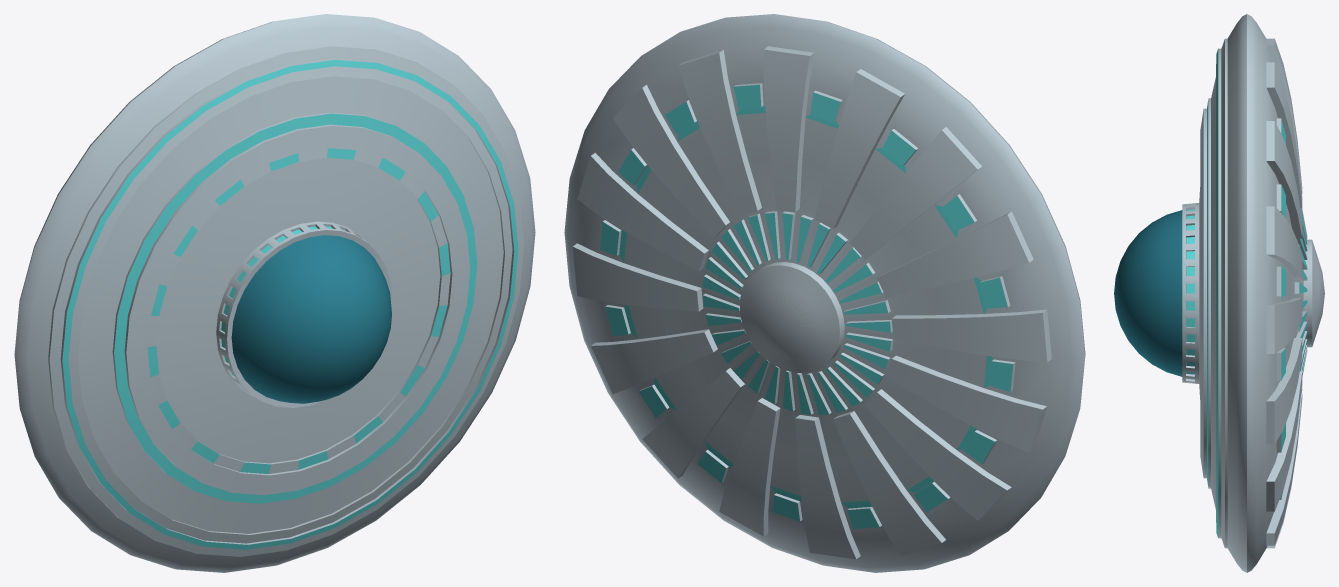
Rendered from UFO.obj.
3 renders of one model, left to right at view 1: azimuth 30°, elevation 25°; view 2: azimuth 150°, elevation 25°; view 3: azimuth 270°, elevation 25°, orthographic. The views are drawn at different scales.
Parts seen in each view (by area): view 1: Sphere_Sphere_Metal, Sphere_Sphere_Light, Sphere_Sphere_Material.001; view 2: Sphere_Sphere_Metal, Sphere_Sphere_Light; view 3: Sphere_Sphere_Metal, Sphere_Sphere_Material.001, Sphere_Sphere_Light.
Boxes of the visible parts, x1=… form: Sphere_Sphere_Metal: x1=14, y1=14, x2=535, y2=572; Sphere_Sphere_Light: x1=62, y1=60, x2=518, y2=549; Sphere_Sphere_Material.001: x1=231, y1=235, x2=391, y2=403; Sphere_Sphere_Metal: x1=564, y1=14, x2=1085, y2=572; Sphere_Sphere_Light: x1=600, y1=84, x2=1013, y2=528; Sphere_Sphere_Metal: x1=1182, y1=14, x2=1324, y2=572; Sphere_Sphere_Material.001: x1=1114, y1=210, x2=1182, y2=376; Sphere_Sphere_Light: x1=1186, y1=49, x2=1307, y2=537.
Bounding box in the file's own units: 0.92 × 0.92 × 0.3469.
Materials: 3 (3 with a texture image).
